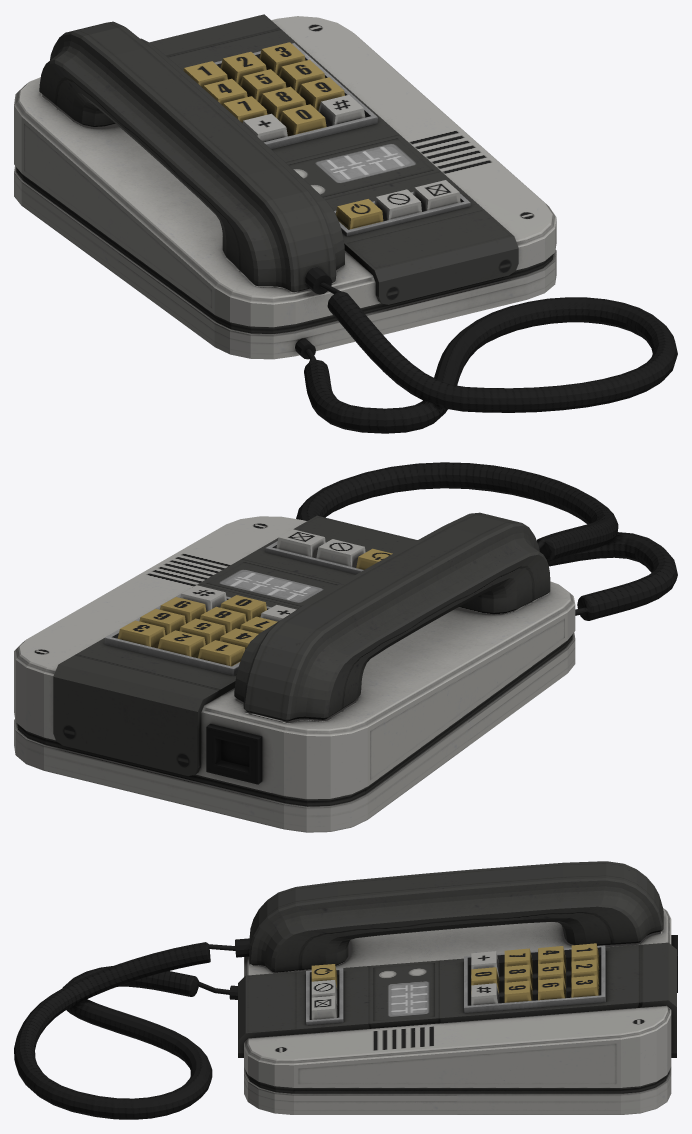
File: Landline_Tele.glb
The picture shows the model from 3 angles, top to bottom: view 1: azimuth 30°, elevation 25°; view 2: azimuth 150°, elevation 25°; view 3: azimuth 270°, elevation 25°; orthographic projection. The views are drawn at different scales.
Parts seen in each view (by area): view 1: huitugou_7010_03; view 2: huitugou_7010_03; view 3: huitugou_7010_03.
Boxes of the visible parts, box(x1,y1,x2,y2) form: huitugou_7010_03: box(14, 14, 677, 433); huitugou_7010_03: box(14, 462, 677, 832); huitugou_7010_03: box(14, 861, 677, 1119).
Bounding box in the file's own units: 0.2512 × 0.1145 × 0.4903.
Materials: 1 (1 with a texture image).
